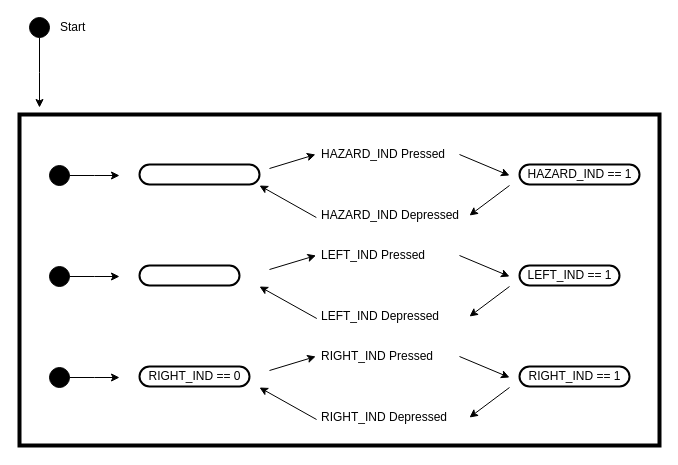
Image size: 678x465. Some labels were removed from this diagram. The shapes that lost their labels are listed below. From the top down, each one's centre as x and y in pixels, then its label:
point (199, 174): HAZARD_IND == 0
point (189, 275): LEFT_IND == 0
